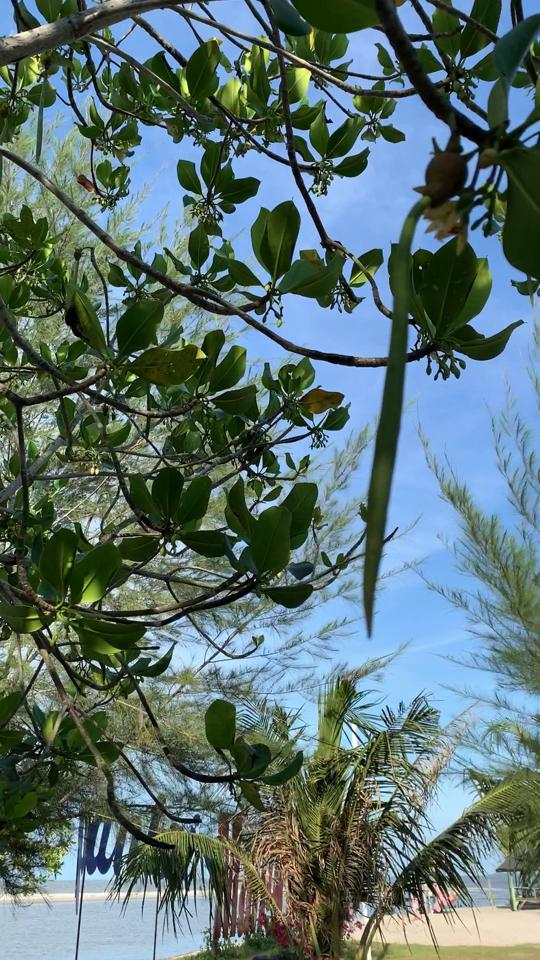mentah: (334, 123, 486, 644)
